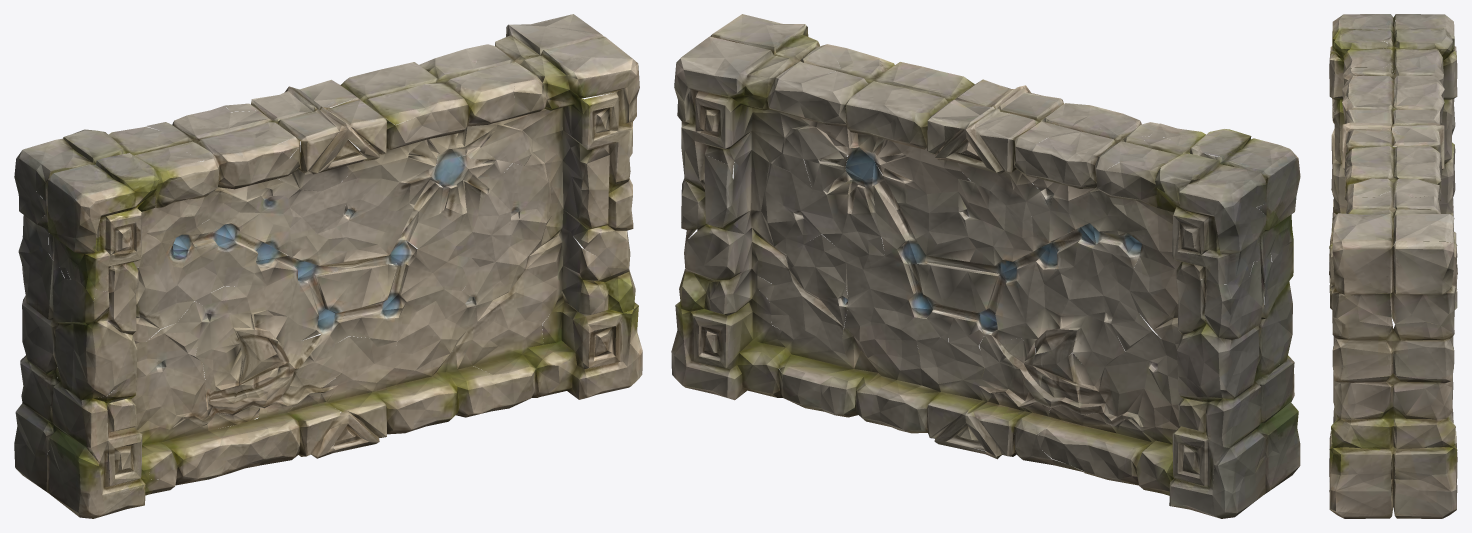
Rendered from building-starMapWall.glb.
3 renders of one model, left to right at view 1: azimuth 30°, elevation 25°; view 2: azimuth 150°, elevation 25°; view 3: azimuth 270°, elevation 25°, orthographic. The views are drawn at different scales.
Visible parts, largest first — view 1: 0_starMapWall; view 2: 0_starMapWall; view 3: 0_starMapWall.
Part boxes in pixels (x1,y1,x2,y2): 0_starMapWall: (14,14,642,518); 0_starMapWall: (671,14,1300,518); 0_starMapWall: (1329,14,1457,518).
Size of the model in its own units: 4.02 by 2.25 by 0.9381.
1 material, 1 textured.
